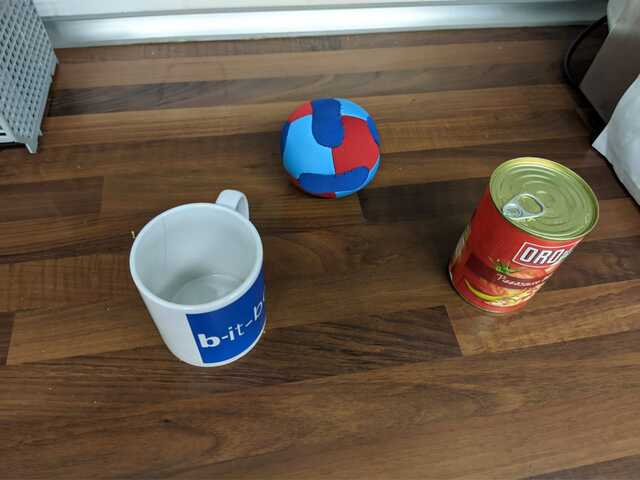005_tomato_soup_can: (446, 154, 602, 319)
025_mug: (124, 183, 273, 371)
057_racquetball: (275, 92, 385, 203)
